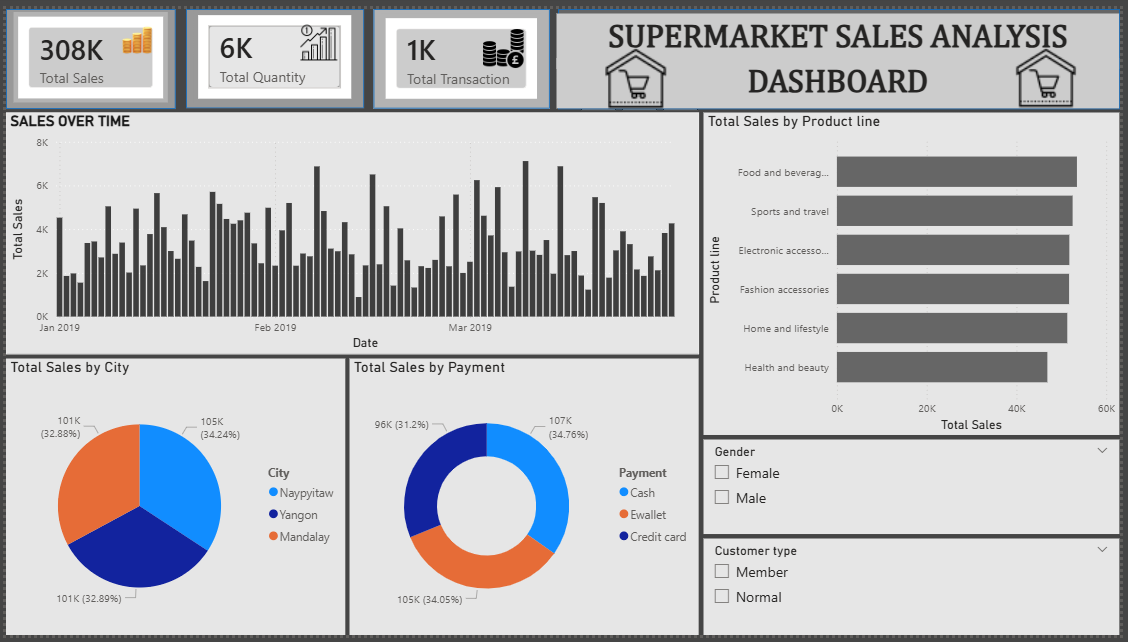

The page's visual inventory and layout, read from the dashboard file:
{"tool":"powerbi","page":{"name":"Page 1","canvas":[1280,720],"ordinal":0},"visuals":[{"type":"shape","box":[422.4,0,202.6,114.5],"z":0},{"type":"shape","box":[206.3,0,204.8,114.3],"z":1000},{"type":"shape","box":[0,0,195,115],"z":2000},{"type":"cardVisual","fields":{"Data":["Fact Table.Total Sales"]},"box":[8,4,177,104],"z":3000},{"type":"cardVisual","fields":{"Data":["Fact Table.Total Quantity"]},"box":[215.3,1.7,186.4,106.8],"z":4000},{"type":"cardVisual","fields":{"Data":["Fact Table.Total Transaction"]},"box":[430.3,5.3,184.2,103.9],"z":5000},{"type":"lineClusteredColumnComboChart","title":"SALES OVER TIME","fields":{"Category":["Fact Table.Date"],"Y":["Fact Table.Total Sales"]},"box":[0,119.7,797,277.3],"z":6000},{"type":"pieChart","fields":{"Category":["Branch Table.City"],"Y":["Fact Table.Total Sales"]},"box":[0,401.6,390.2,319],"z":7000},{"type":"clusteredBarChart","fields":{"Category":["Product Table.Product line"],"Y":["Fact Table.Total Sales"]},"box":[801.5,119.8,477.7,370.8],"z":8000},{"type":"donutChart","fields":{"Category":["Payment Table.Payment"],"Y":["Fact Table.Total Sales"]},"box":[395.1,401.6,401.6,319],"z":9000},{"type":"slicer","fields":{"Values":["Gender Table.Gender"]},"box":[801.5,495.5,477.7,108.5],"z":10000},{"type":"shape","box":[633.9,0,645.8,115.3],"z":11000},{"type":"slicer","fields":{"Values":["Customer Table.Customer type"]},"box":[801.5,608.8,477.7,111.7],"z":12000},{"type":"textbox","box":[633.3,4.5,647,63.6],"z":13000},{"type":"textbox","box":[633.3,57.6,647,57.6],"z":14000},{"type":"image","box":[615.2,39.4,216.7,83.3],"z":15000},{"type":"image","box":[1130.3,39.4,128.8,81.8],"z":16000},{"type":"image","box":[548.5,4.5,47,78.8],"z":17000},{"type":"image","box":[319.7,12.1,81.8,56.1],"z":18000},{"type":"image","box":[130.3,7.6,39.4,57.6],"z":18001}]}

Visuals, with their boxes in screenshot pixels (x1, y1, x2, y2), scaled from the page's 1280x720 canvas onto the 1128x642 screenshot:
shape: {"x1": 372, "y1": 0, "x2": 551, "y2": 102}
shape: {"x1": 182, "y1": 0, "x2": 362, "y2": 102}
shape: {"x1": 0, "y1": 0, "x2": 172, "y2": 103}
cardVisual - Fact Table.Total Sales: {"x1": 7, "y1": 4, "x2": 163, "y2": 96}
cardVisual - Fact Table.Total Quantity: {"x1": 190, "y1": 2, "x2": 354, "y2": 97}
cardVisual - Fact Table.Total Transaction: {"x1": 379, "y1": 5, "x2": 542, "y2": 97}
"SALES OVER TIME" lineClusteredColumnComboChart: {"x1": 0, "y1": 107, "x2": 702, "y2": 354}
pieChart - Branch Table.City x Fact Table.Total Sales: {"x1": 0, "y1": 358, "x2": 344, "y2": 641}
clusteredBarChart - Product Table.Product line x Fact Table.Total Sales: {"x1": 706, "y1": 107, "x2": 1127, "y2": 437}
donutChart - Payment Table.Payment x Fact Table.Total Sales: {"x1": 348, "y1": 358, "x2": 702, "y2": 641}
slicer - Gender Table.Gender: {"x1": 706, "y1": 442, "x2": 1127, "y2": 539}
shape: {"x1": 559, "y1": 0, "x2": 1127, "y2": 103}
slicer - Customer Table.Customer type: {"x1": 706, "y1": 543, "x2": 1127, "y2": 641}
textbox: {"x1": 558, "y1": 4, "x2": 1127, "y2": 61}
textbox: {"x1": 558, "y1": 51, "x2": 1127, "y2": 103}
image: {"x1": 542, "y1": 35, "x2": 733, "y2": 109}
image: {"x1": 996, "y1": 35, "x2": 1110, "y2": 108}
image: {"x1": 483, "y1": 4, "x2": 525, "y2": 74}
image: {"x1": 282, "y1": 11, "x2": 354, "y2": 61}
image: {"x1": 115, "y1": 7, "x2": 150, "y2": 58}
